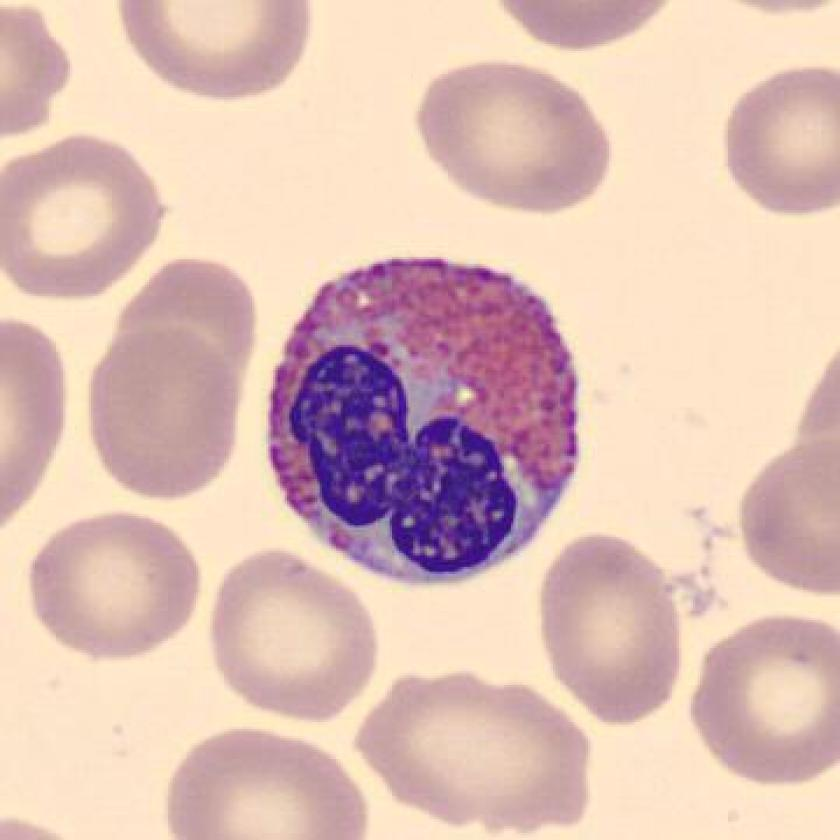eosinophil: (253, 244, 601, 600)
